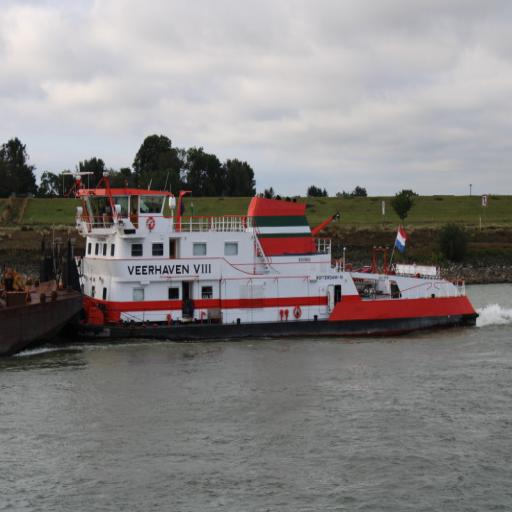tugboat: (37, 166, 484, 352)
